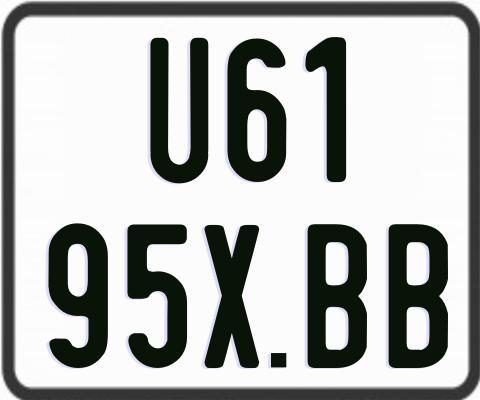1: (305, 35, 349, 184)
5: (125, 222, 188, 365)
6: (226, 39, 288, 183)
9: (48, 222, 110, 371)
B: (388, 221, 451, 370), (308, 221, 369, 369)
U: (150, 36, 211, 184)
X: (201, 224, 257, 367)
